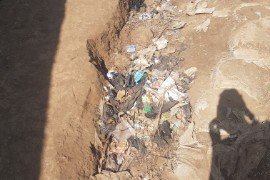trash: (91, 35, 202, 170)
